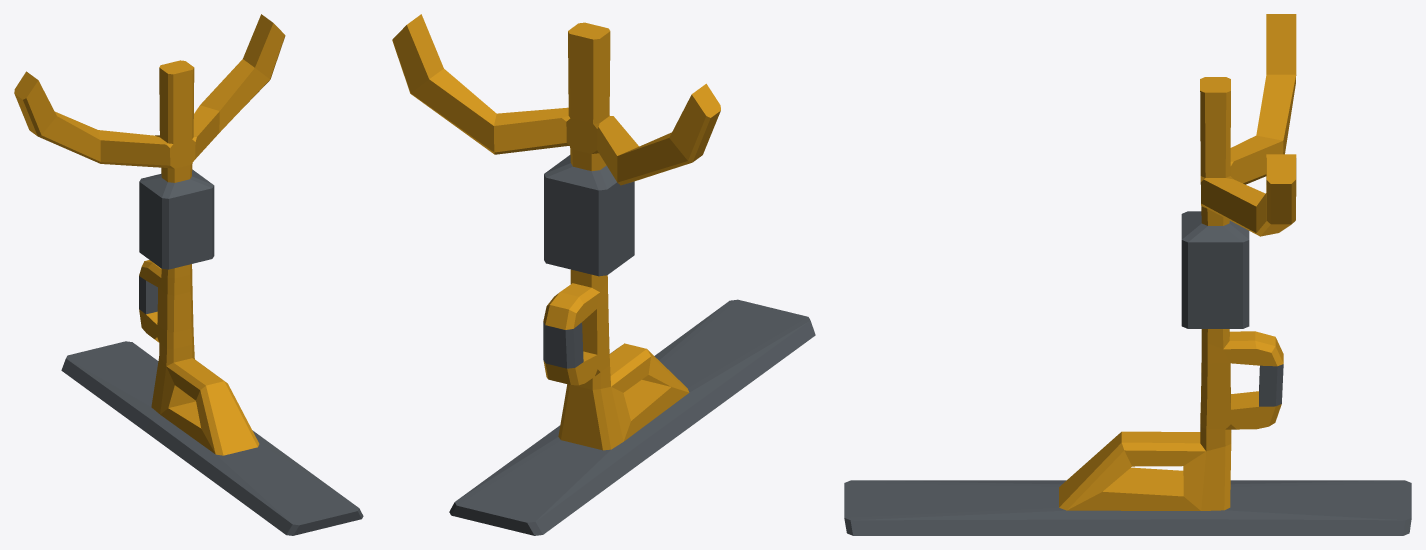
The model's file is Dropship_05_Front_Lander_Yellow.fbx.
3 renders of one model, left to right at view 1: azimuth 30°, elevation 25°; view 2: azimuth 150°, elevation 25°; view 3: azimuth 270°, elevation 25°, orthographic. The views are drawn at different scales.
Visible parts, largest first — view 1: Dropship_05_Front_Lander_Yellow; view 2: Dropship_05_Front_Lander_Yellow; view 3: Dropship_05_Front_Lander_Yellow.
Part boxes in pixels (x1,y1,x2,y2): Dropship_05_Front_Lander_Yellow: (14,14,363,535); Dropship_05_Front_Lander_Yellow: (392,14,815,535); Dropship_05_Front_Lander_Yellow: (844,14,1411,535).
Size of the model in its own units: 183 by 234 by 281.
1 material, 1 textured.
